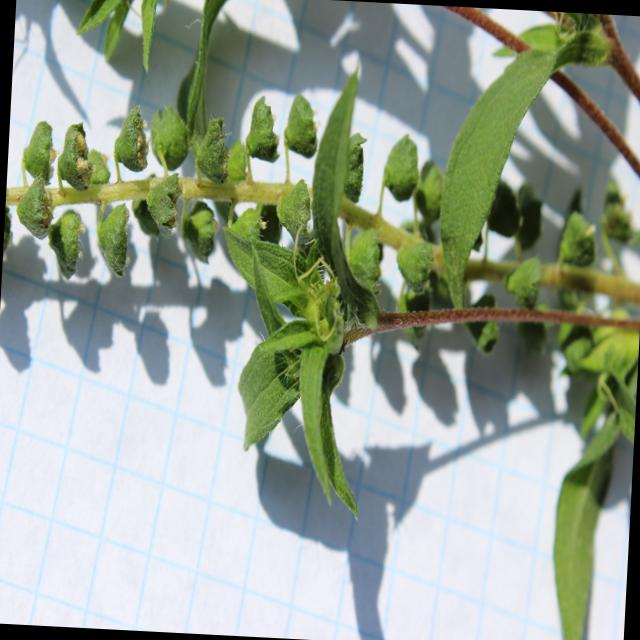ambrosia: (19, 46, 636, 422)
